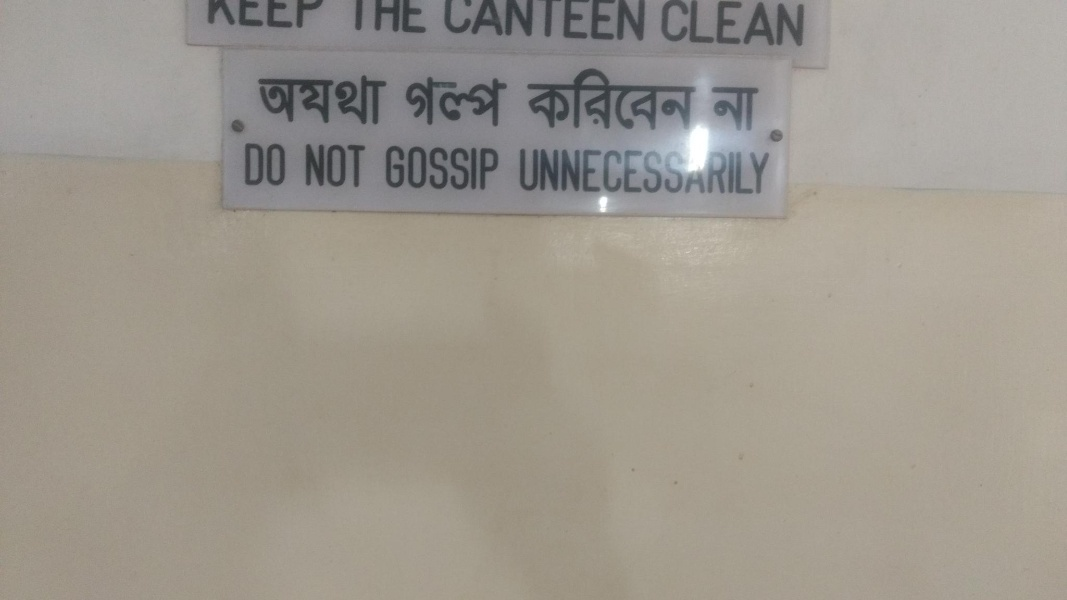text: (529, 64, 544, 132), (545, 64, 560, 132), (561, 64, 576, 132), (577, 64, 592, 132), (593, 64, 608, 132), (609, 64, 624, 132), (625, 64, 640, 132), (641, 64, 656, 132), (657, 64, 672, 132), (673, 64, 688, 132), (417, 67, 432, 129), (433, 67, 448, 129), (449, 67, 464, 129), (465, 67, 480, 129), (481, 67, 496, 129), (497, 67, 512, 129), (257, 73, 272, 126), (273, 73, 288, 126), (289, 73, 304, 126), (305, 73, 320, 126), (321, 73, 336, 126), (337, 73, 352, 126), (353, 73, 368, 126), (369, 73, 384, 126), (353, 143, 369, 189), (241, 141, 256, 189), (257, 141, 272, 189), (273, 141, 288, 189), (529, 146, 544, 194), (545, 146, 560, 194), (561, 146, 576, 194), (577, 146, 592, 194), (593, 146, 608, 194), (609, 146, 624, 194), (625, 146, 640, 194), (641, 146, 656, 194), (657, 146, 672, 194), (673, 146, 688, 194), (689, 146, 704, 194), (705, 146, 720, 194), (721, 146, 736, 194), (737, 146, 752, 194), (753, 146, 768, 194), (673, 1, 688, 49), (689, 1, 704, 49), (705, 1, 720, 49), (721, 1, 736, 49), (737, 1, 752, 49), (753, 1, 768, 49), (769, 1, 784, 49), (785, 1, 800, 49), (721, 86, 736, 132), (737, 86, 752, 132), (305, 143, 320, 189), (321, 143, 336, 189), (337, 143, 352, 189), (405, 67, 416, 129), (385, 146, 400, 191), (401, 146, 416, 191), (417, 146, 432, 191), (433, 146, 448, 191), (449, 146, 464, 191), (465, 146, 480, 191), (481, 146, 496, 191), (449, 1, 464, 44), (465, 1, 480, 44), (481, 1, 496, 44), (497, 1, 512, 44), (513, 1, 528, 44), (529, 1, 544, 44), (545, 1, 560, 44), (561, 1, 576, 44), (577, 1, 592, 44), (593, 1, 608, 44), (609, 1, 624, 44), (625, 1, 640, 44), (659, 1, 672, 49), (689, 64, 698, 132), (641, 1, 653, 44), (353, 2, 368, 35), (369, 2, 384, 35), (385, 2, 400, 35), (401, 2, 416, 35), (417, 2, 431, 35), (519, 146, 528, 194), (209, 1, 224, 28), (225, 1, 240, 28), (241, 1, 256, 28), (257, 1, 272, 28), (273, 1, 288, 28), (289, 1, 304, 28), (305, 1, 320, 28), (753, 86, 761, 132), (769, 146, 776, 194), (801, 1, 808, 49), (713, 86, 720, 132), (443, 1, 448, 44), (385, 73, 389, 126), (321, 1, 328, 28), (204, 1, 208, 28), (497, 146, 499, 191), (513, 67, 514, 129)
